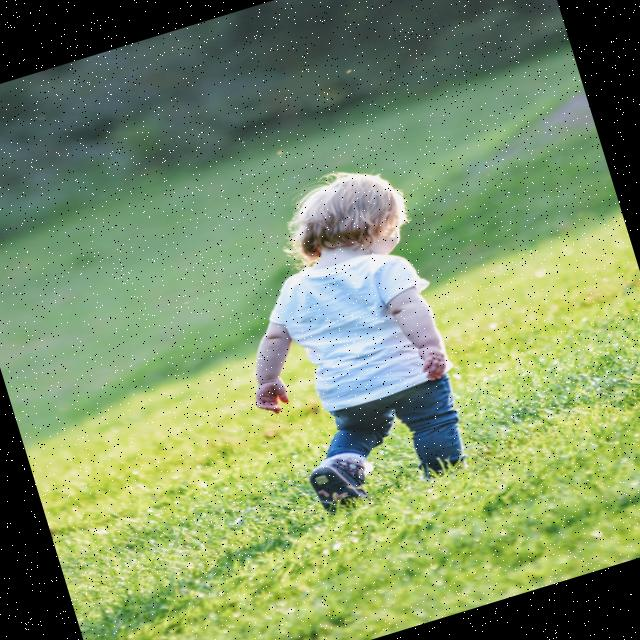Person: (197, 155, 484, 521)
